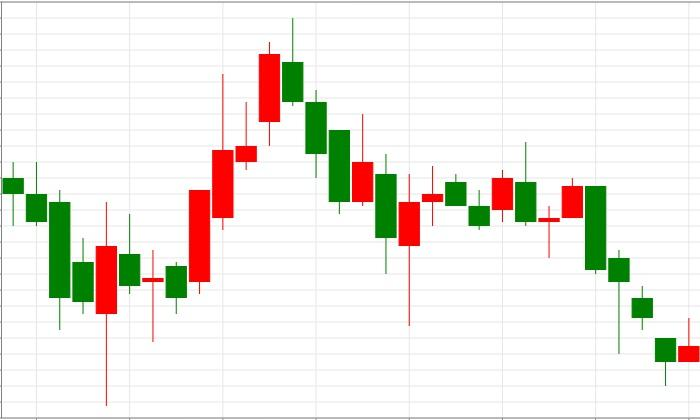bullish_engulfing_rise: (2, 162, 118, 406)
